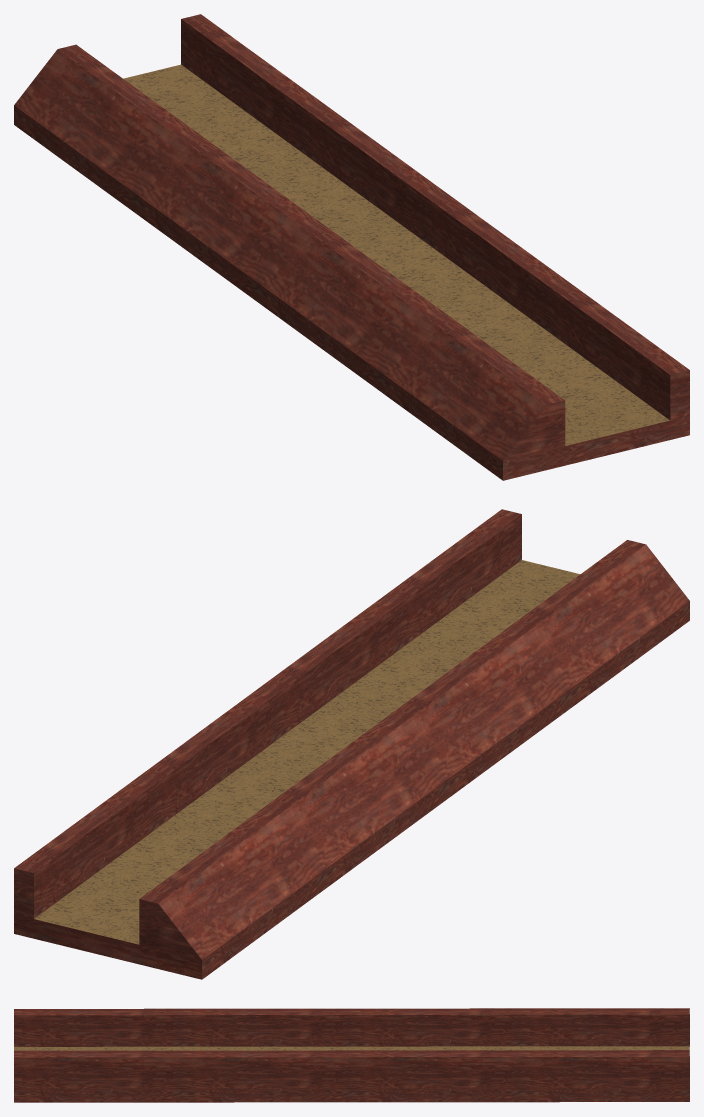
The model's file is corridorfenceBase.fbx.
The picture shows the model from 3 angles, top to bottom: view 1: azimuth 30°, elevation 25°; view 2: azimuth 150°, elevation 25°; view 3: azimuth 270°, elevation 25°; orthographic projection. The views are drawn at different scales.
Visible parts, largest first — view 1: fenceBase; view 2: fenceBase; view 3: fenceBase.
Boxes of the visible parts, box(x1,y1,x2,y2) form: fenceBase: box(14, 14, 689, 480); fenceBase: box(14, 509, 689, 979); fenceBase: box(14, 1008, 689, 1102).
Bounding box in the file's own units: 0.5815 × 0.1915 × 2.6.
